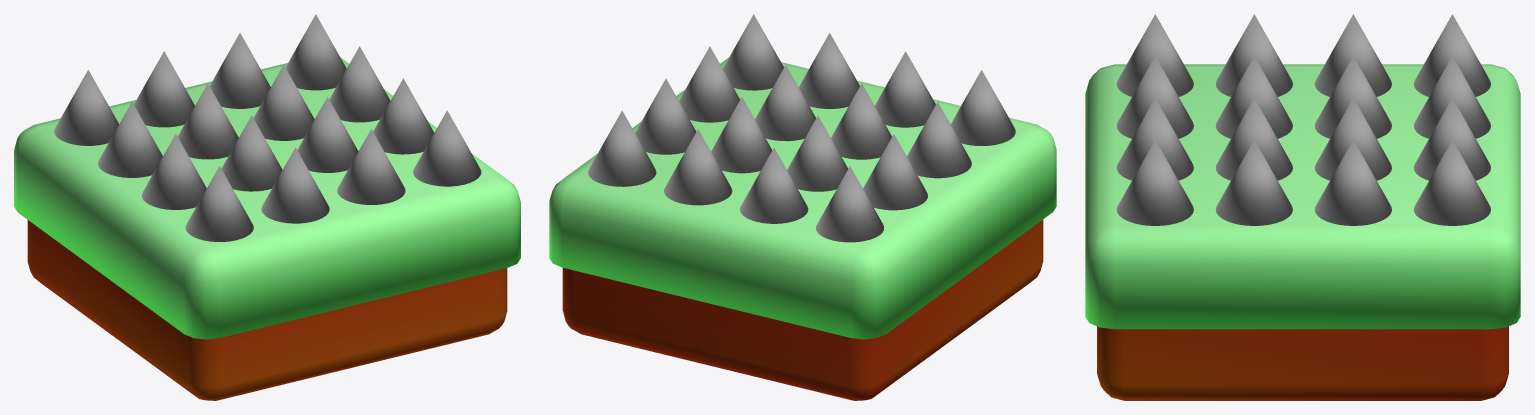
The model's file is trap_platformspikegreen.glb.
The picture shows the model from 3 angles, left to right: view 1: azimuth 30°, elevation 25°; view 2: azimuth 150°, elevation 25°; view 3: azimuth 270°, elevation 25°; orthographic projection. The views are drawn at different scales.
Parts seen in each view (by area): view 1: Cube.014_visual; view 2: Cube.014_visual; view 3: Cube.014_visual.
Boxes of the visible parts, <box> form: Cube.014_visual: <box>14,14,520,400</box>; Cube.014_visual: <box>549,14,1056,400</box>; Cube.014_visual: <box>1085,14,1520,400</box>.
Size of what is drawn, in the model's own units: 1.42 by 0.8857 by 1.42.
1 material, 1 textured.
